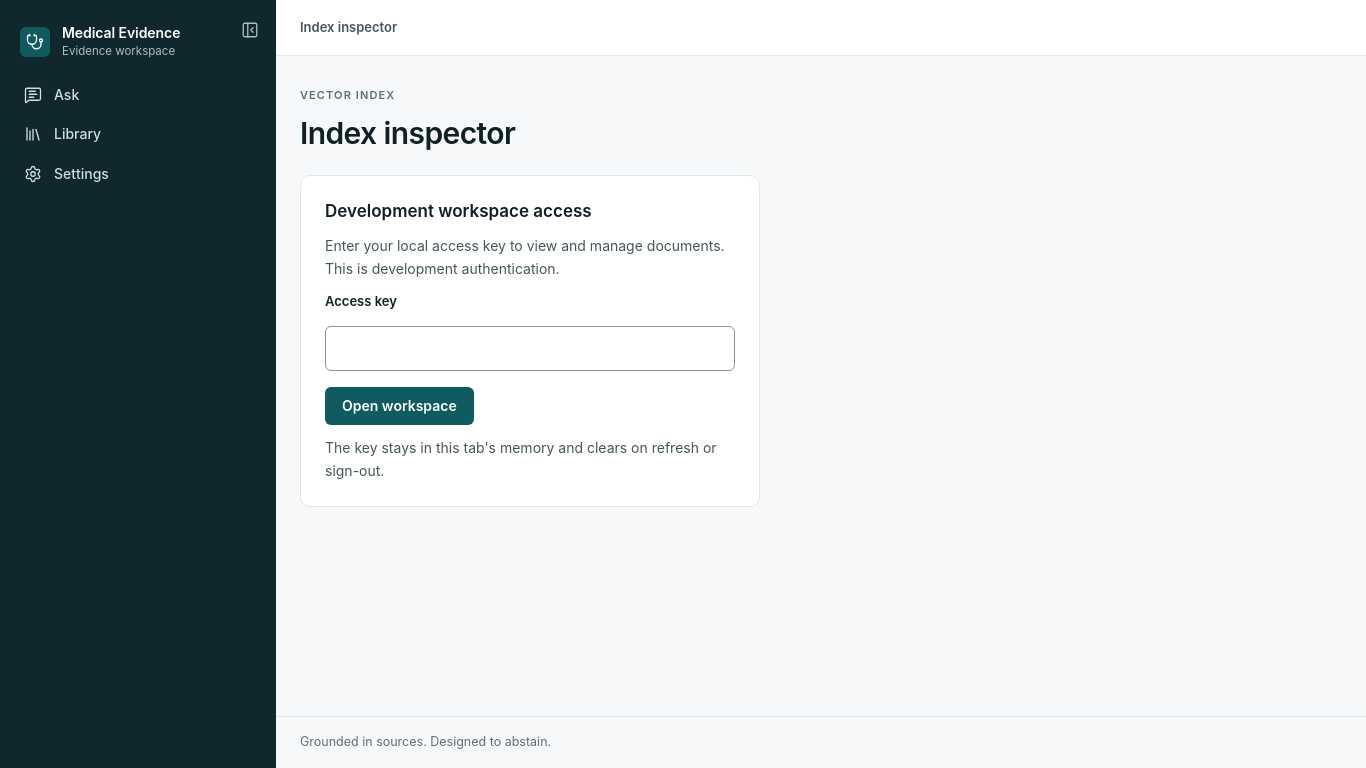
Test: M4 index inspector › resolves a point back to its source chunk and its retrieval representation
The image size is (1366, 768).
Type "local-test-key" into the password field labelled "Access key" at {"x": 530, "y": 349}, box top-left (325, 326), bottom-right (735, 371)
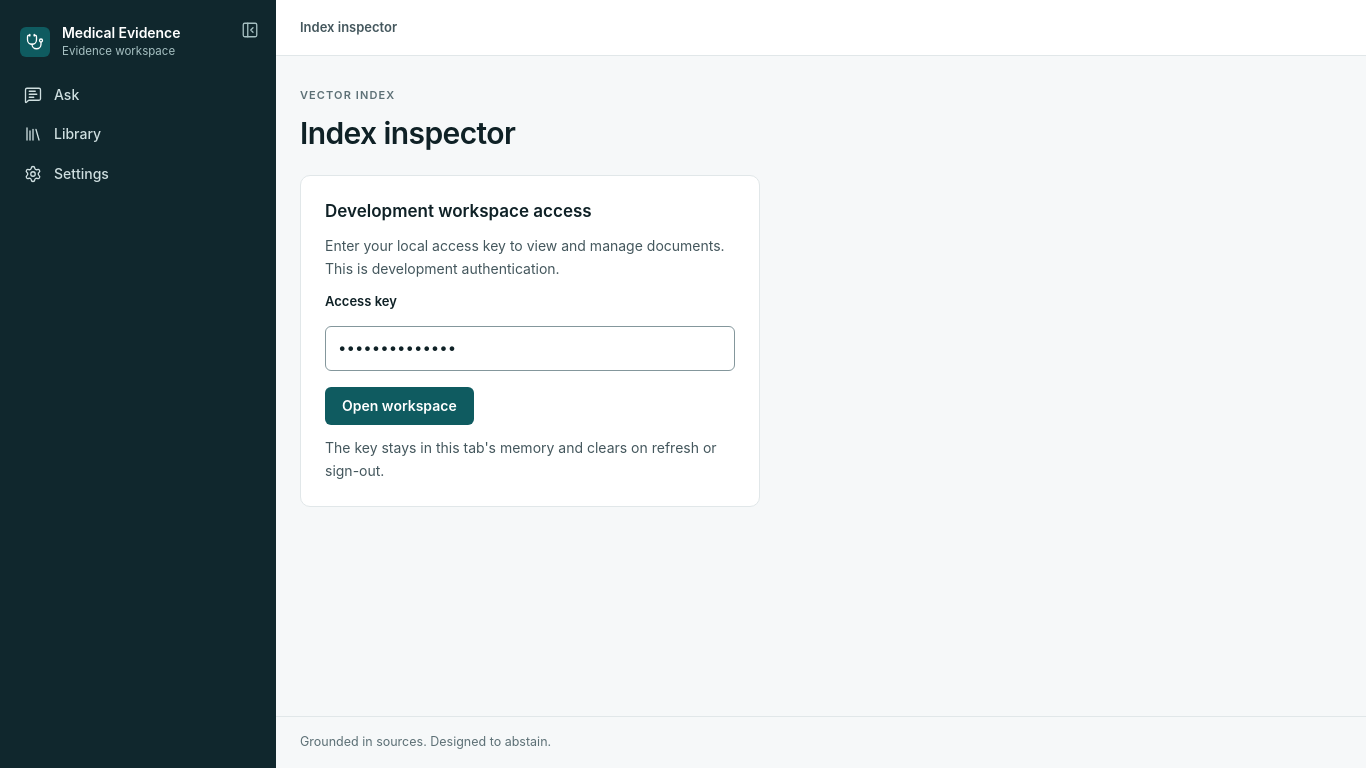
Click the button "Open workspace" at {"x": 399, "y": 406}, box top-left (325, 387), bottom-right (474, 425)
(page scrolled)
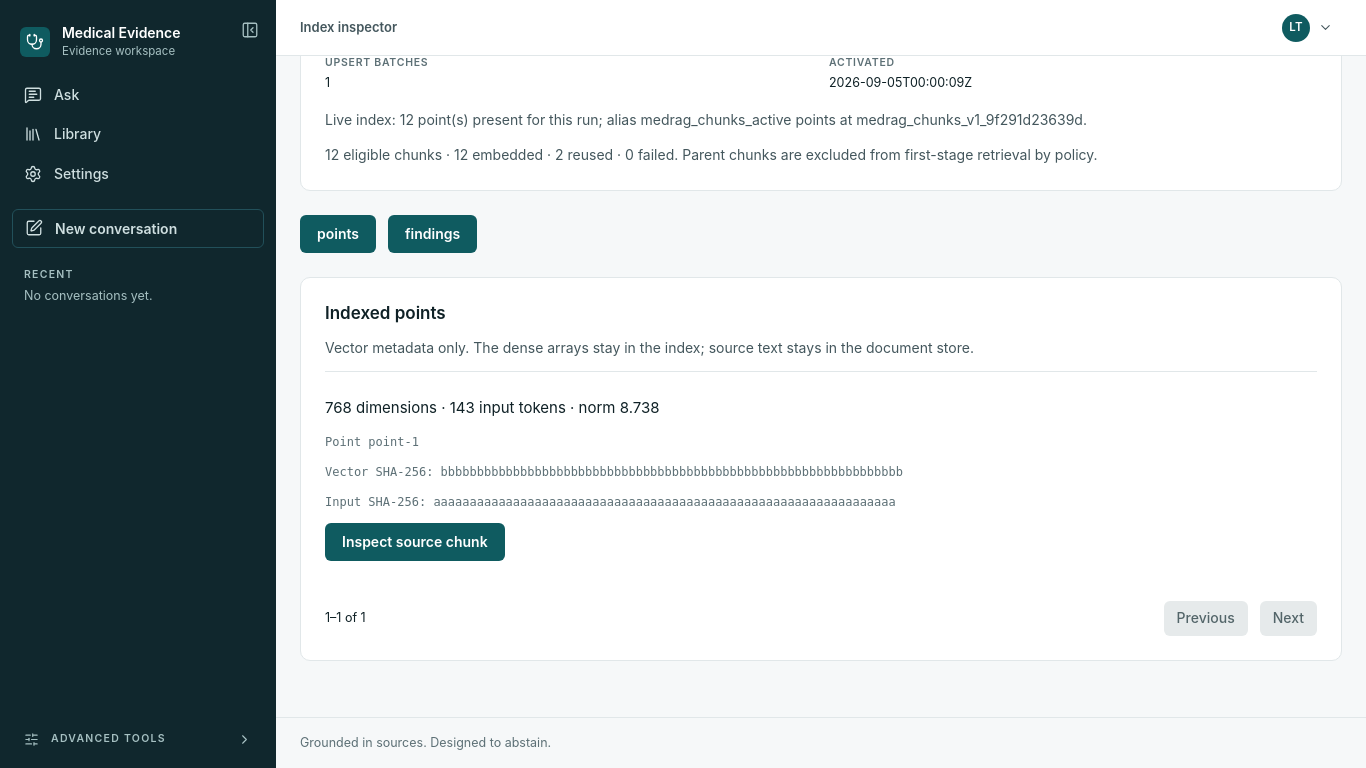
Expected: the button named "Account and workspace" is shown, top-left (1277, 8), bottom-right (1342, 46)
Click the button "Inspect source chunk" at {"x": 415, "y": 542}, box top-left (325, 523), bottom-right (505, 561)
(page scrolled)
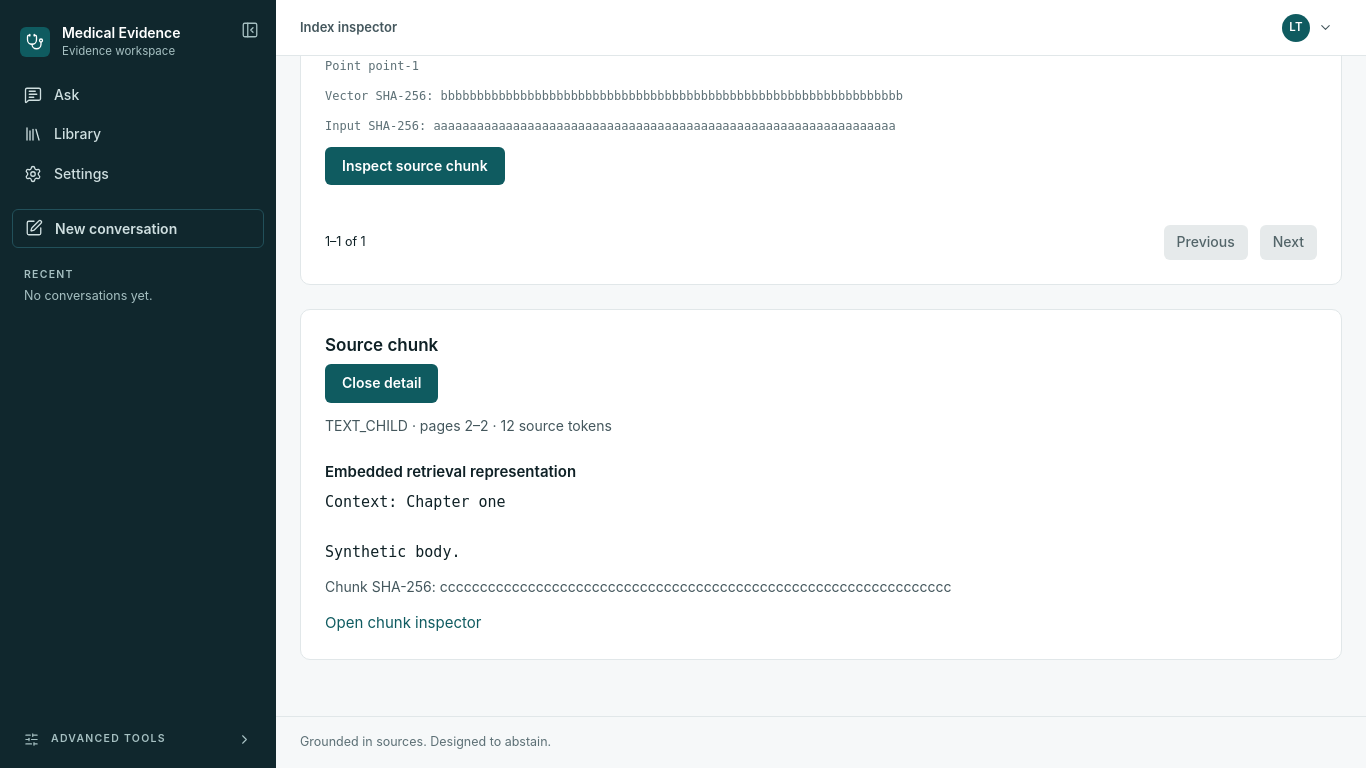
Expected: the text "TEXT_CHILD · pages 2–2 · 12 source tokens" is shown, top-left (325, 417), bottom-right (612, 434)
Expected: the text "Context: Chapter one Synthetic body." is shown, top-left (325, 493), bottom-right (506, 560)
